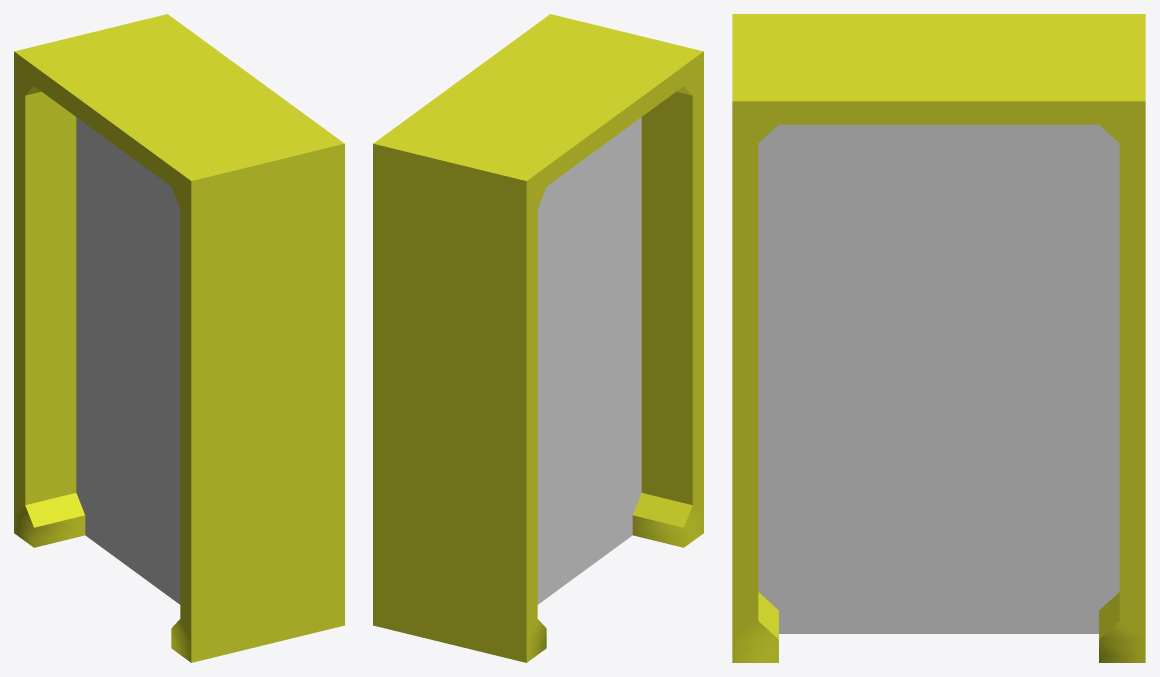
The model's file is DoorFrame_A.0.fbx.
The picture shows the model from 3 angles, left to right: view 1: azimuth 30°, elevation 25°; view 2: azimuth 150°, elevation 25°; view 3: azimuth 270°, elevation 25°; orthographic projection. The views are drawn at different scales.
Parts seen in each view (by area): view 1: DoorFrame_A.001, Door_A.001; view 2: DoorFrame_A.001, Door_A.001; view 3: Door_A.001, DoorFrame_A.001.
Boxes of the visible parts, box(x1,y1,x2,y2) form: DoorFrame_A.001: box(14, 14, 344, 662); Door_A.001: box(76, 117, 180, 604); DoorFrame_A.001: box(373, 14, 703, 662); Door_A.001: box(537, 117, 641, 604); Door_A.001: box(758, 124, 1119, 633); DoorFrame_A.001: box(732, 14, 1145, 662).
Size of the model in its own units: 1 by 3 by 2.
